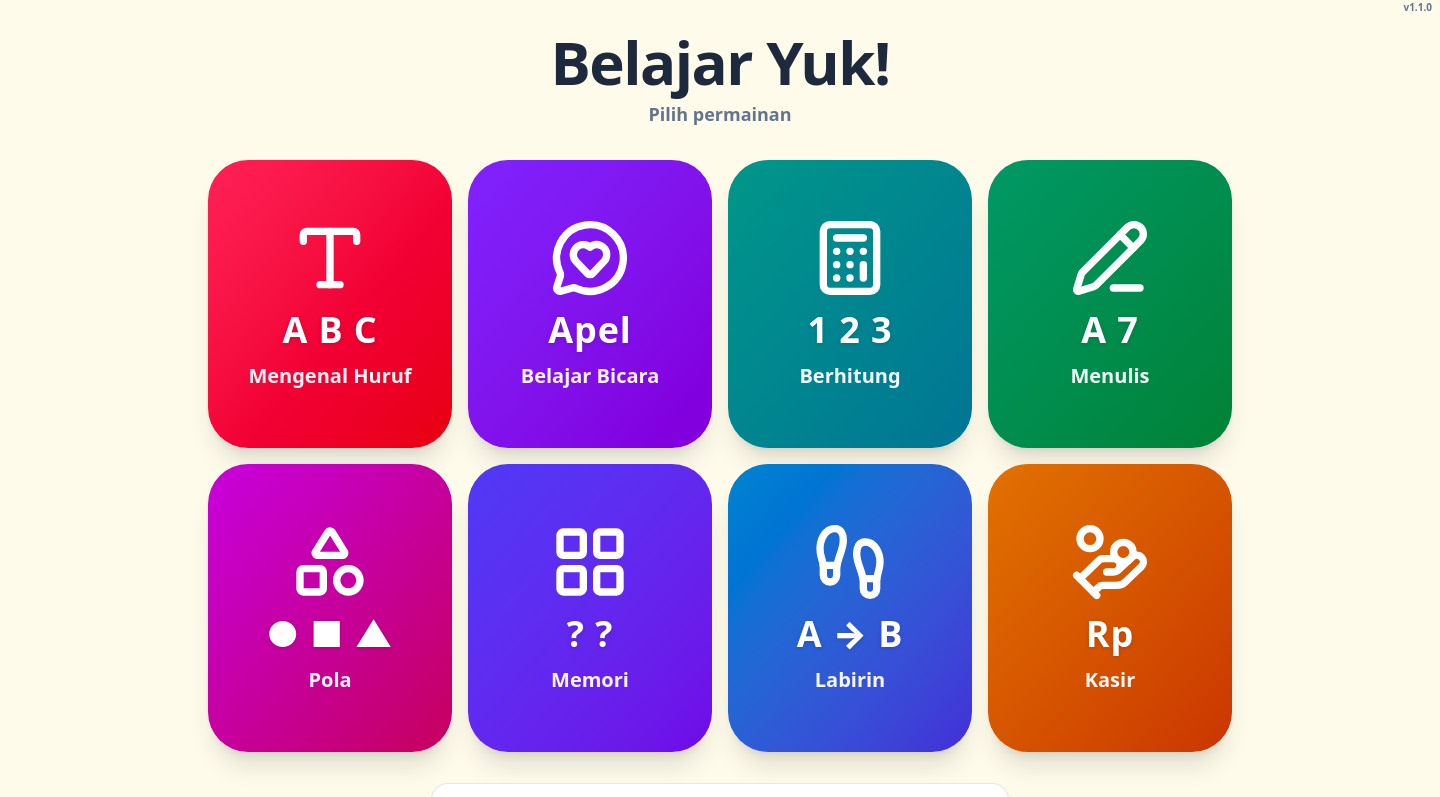
Test: Pola › choosing the kind › comes first: three choices, and no pattern yet
Click the button "● ■ ▲ Pola" at (330, 608), box top-left (208, 464), bottom-right (452, 752)
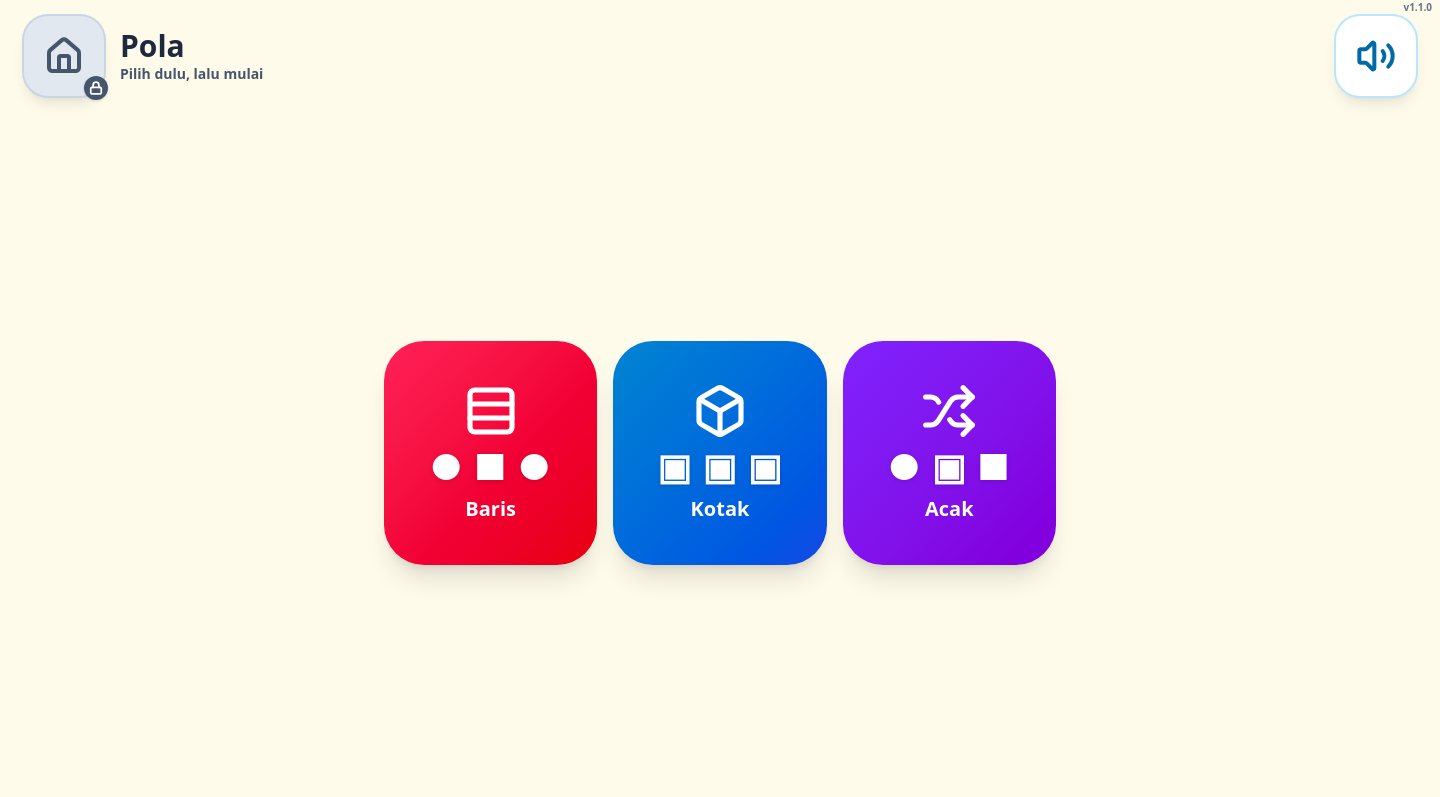
Expected: the text "Pilih dulu, lalu mulai" is shown, top-left (120, 64), bottom-right (263, 83)
Expected: the button "● ■ ● Baris" is shown, top-left (384, 341), bottom-right (597, 565)
Expected: the button "▣ ▣ ▣ Kotak" is shown, top-left (613, 341), bottom-right (827, 565)
